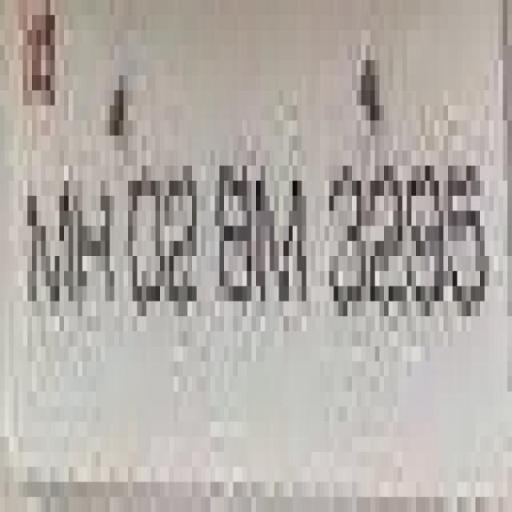number plate: (9, 15, 512, 376)
